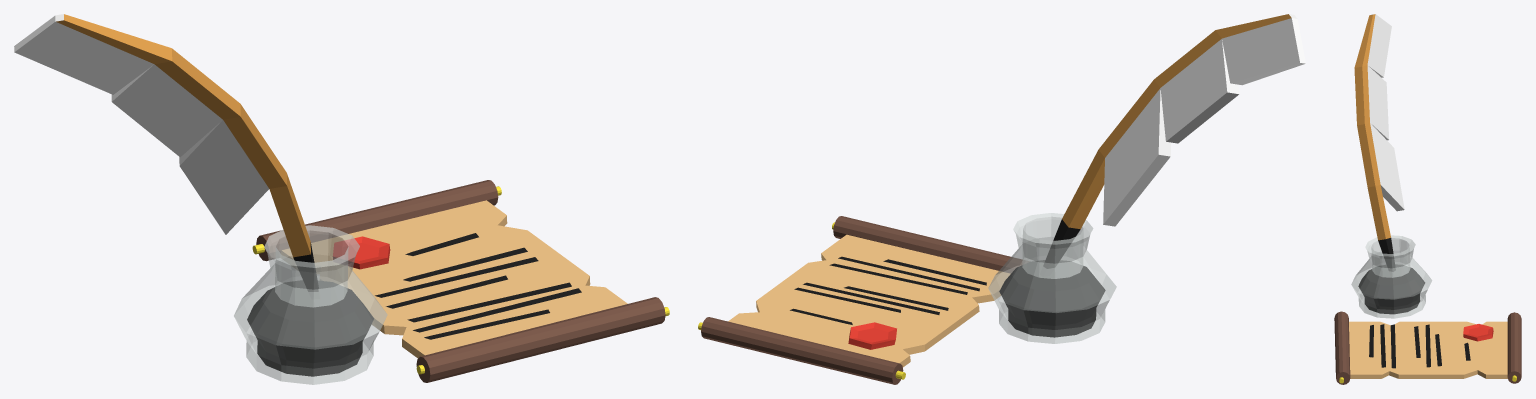
File: Quill and parchment.glb
3 views of the same model, side by side, from view 1: azimuth 30°, elevation 25°; view 2: azimuth 150°, elevation 25°; view 3: azimuth 270°, elevation 25° (orthographic). The views are drawn at different scales.
Parts seen in each view (by area): view 1: Node; view 2: Node; view 3: Node.
Part boxes in pixels (<box>): Node: <box>14,14,669,384</box>; Node: <box>698,14,1305,384</box>; Node: <box>1334,14,1521,384</box>.
Bounding box in the file's own units: 0.772 × 0.517 × 0.3897.
